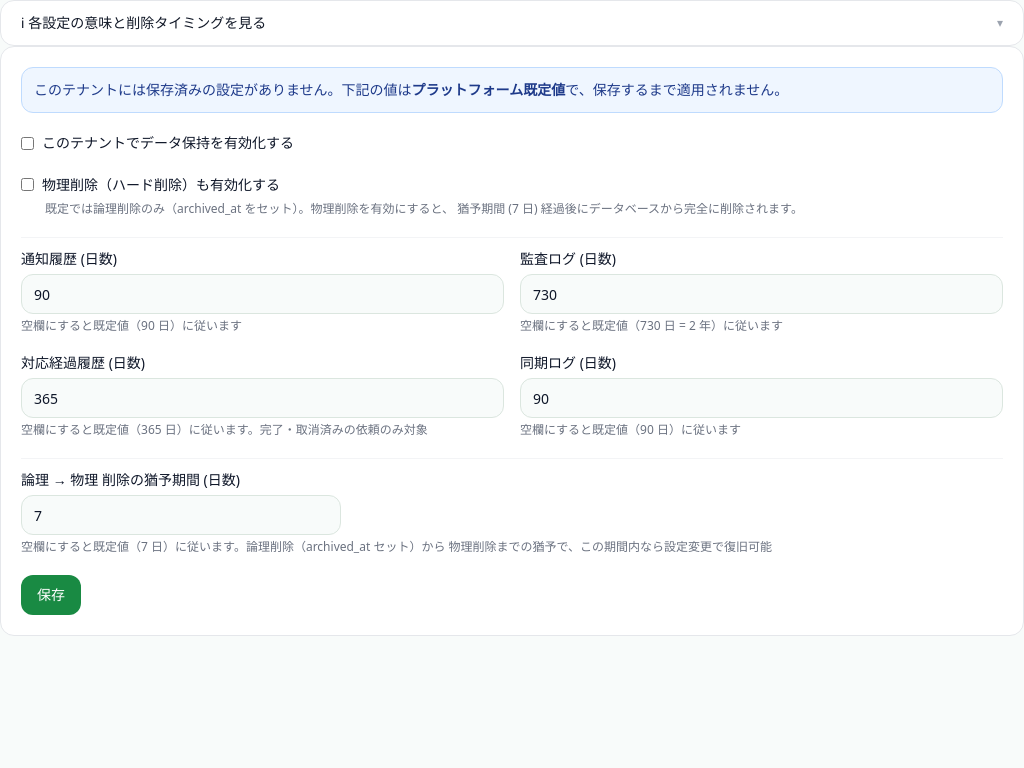
Test case: NDG-94: RetentionConfigForm client validation › typing 0 in a *_days field disables save and shows inline warning
The width and height of the screenshot is (1024, 768).
Replace the text in the number field labelled "通知履歴 (日数)" with "0" at coordinates (262, 294), box [21,274,504,314]
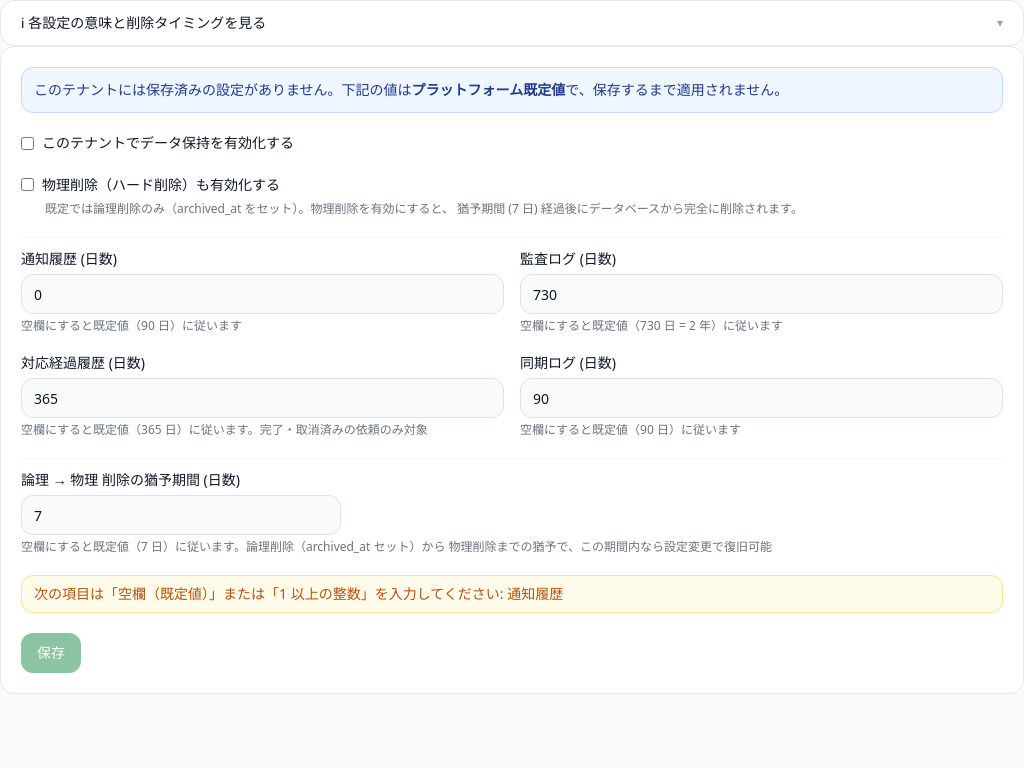
Now the button "保存" is disabled, box [21,633,81,673]
Now the text "次の項目は「空欄（既定値）」または「1 以上の整数」を入力してください: 通知履歴" is shown, box [21,575,1003,613]
